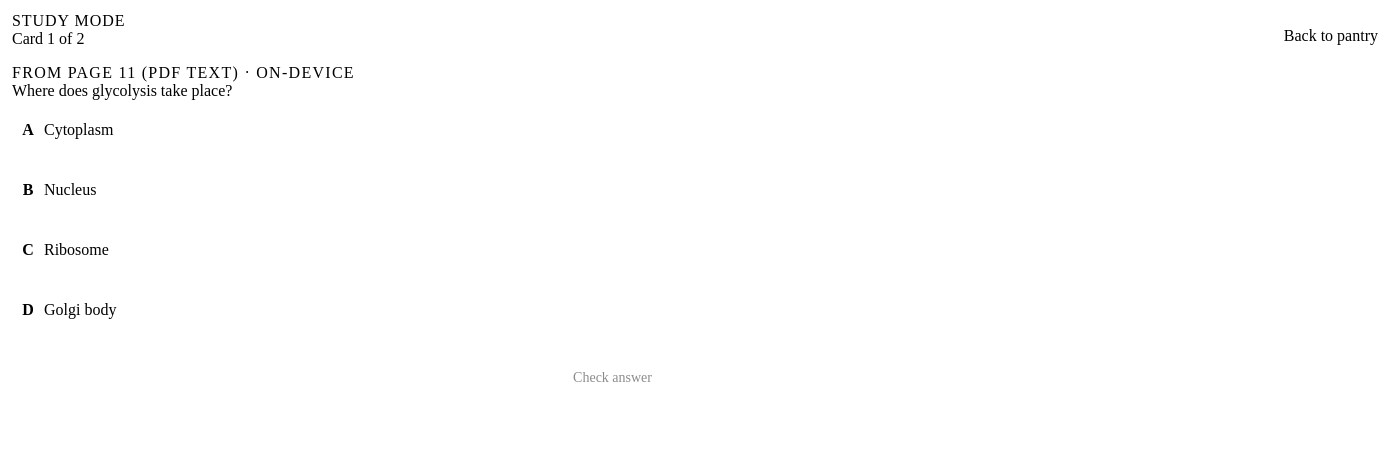
StudySession › shows feedback, saves the attempt, and reveals the correct answer when wrong
This screenshot has width=1390, height=458.
Click the button "B Nucleus". click: point(70, 190)
box: [12,160,652,220]
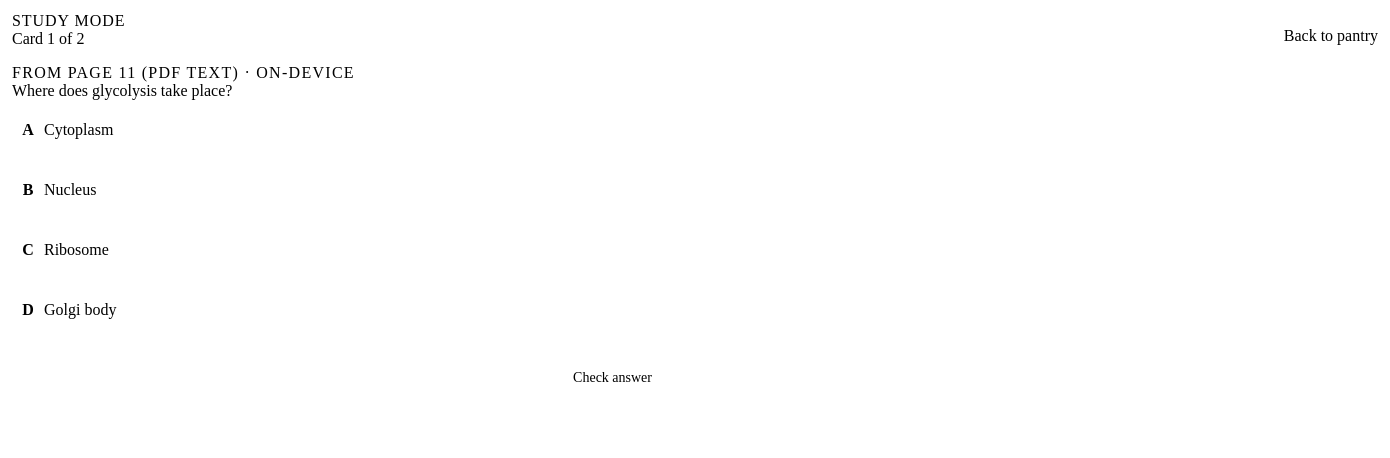
Click the button "Check answer". click: point(613, 378)
box: [573,356,652,400]
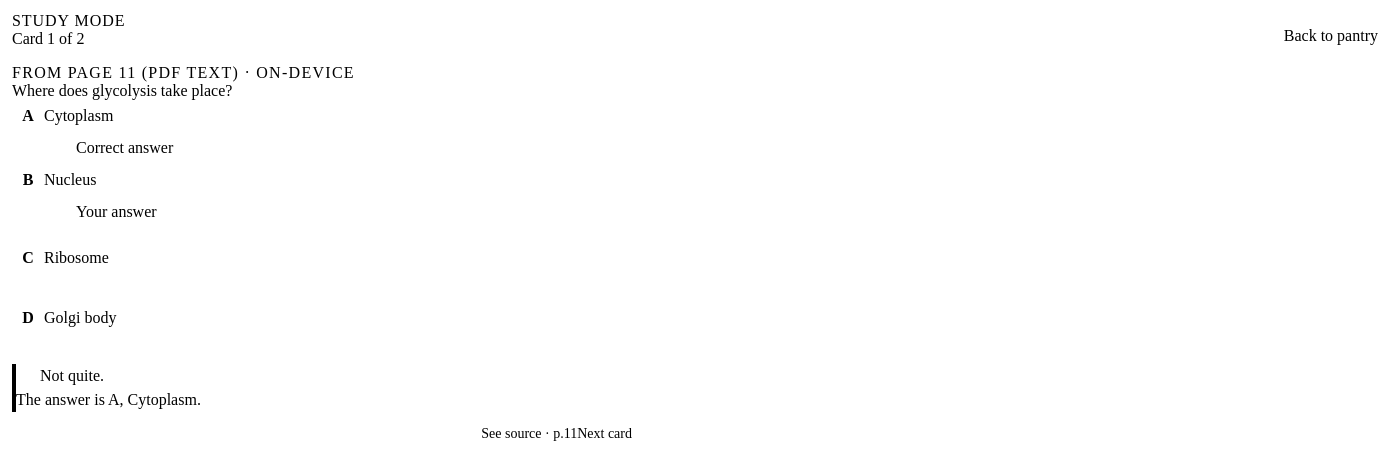
Expected: the text "Not quite." is shown, [40,367,104,384]
Expected: the text "The answer is A, Cytoplasm." is shown, [16,391,201,408]
